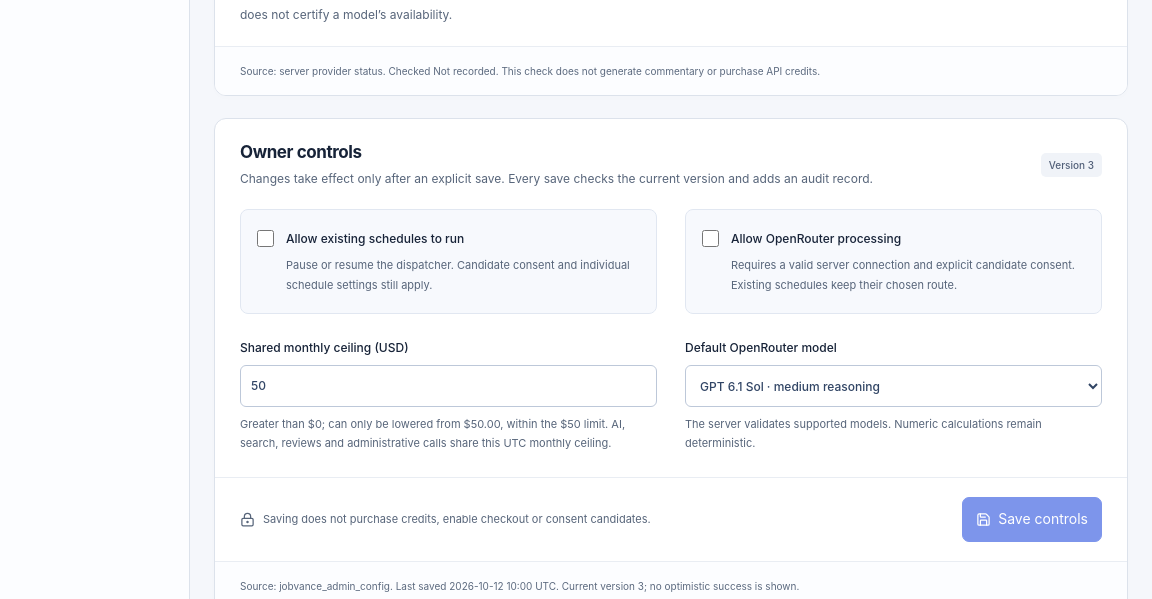
Scenario: private owner portals › requires an explicit versioned save and locks stale controls until a fresh snapshot
This screenshot has width=1152, height=599.
(page scrolled)
Replace the text in the number field labelled "Shared monthly ceiling (USD)" with "40" at (448, 386), box [240,365,657,407]
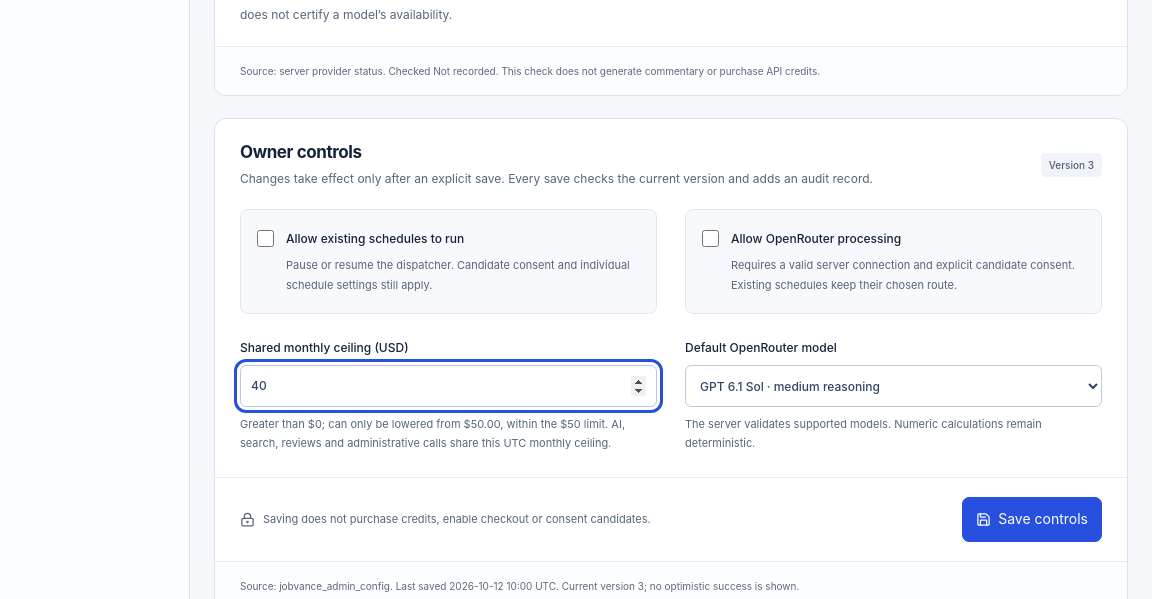
Click the button "Save controls" at (1032, 520), box [962,497,1102,542]
(page scrolled)
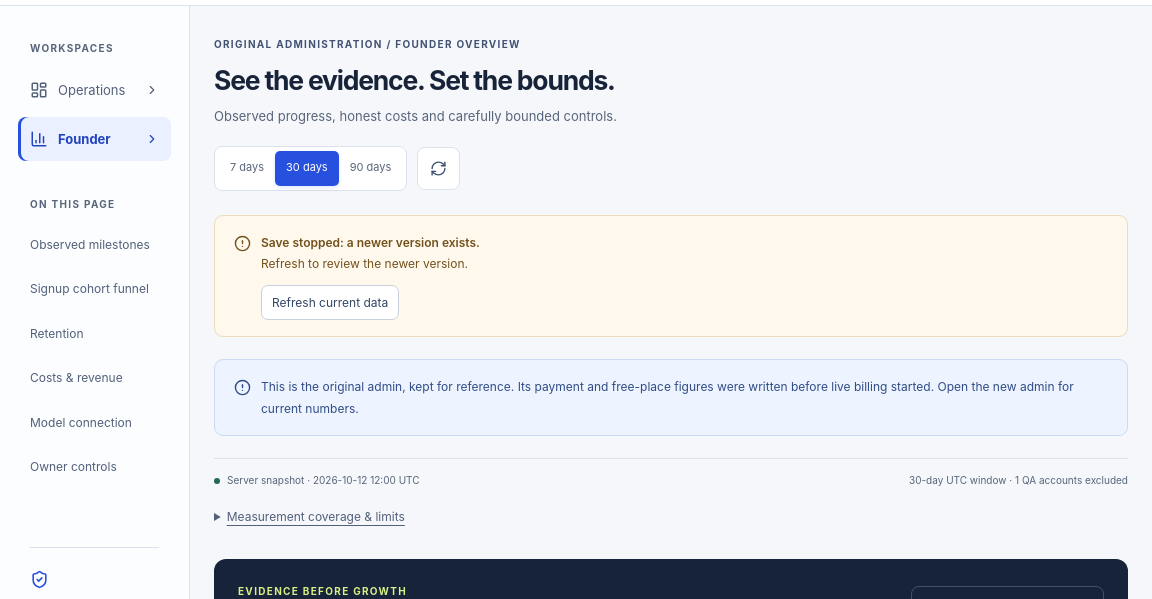
Expected: the text "Save stopped: a newer version exists." is shown, [261,234,480,250]
Click the button "Refresh current data" at (330, 302), box [261,285,399,320]
(page scrolled)
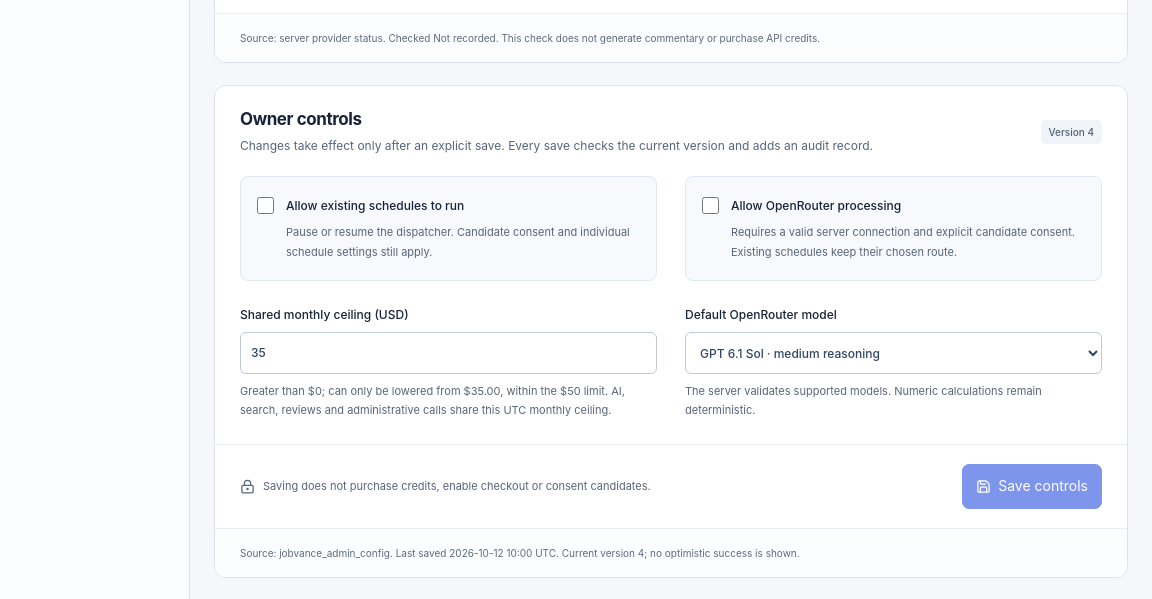
Expected: the number field labelled "Shared monthly ceiling (USD)" holds "35", [240,332,657,374]
Expected: the button "Save controls" is disabled, [962,464,1102,509]
